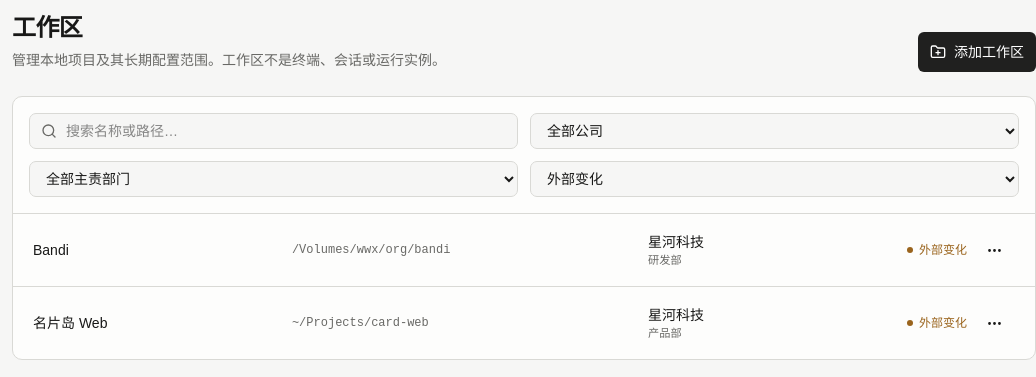
渐进式首次体验 › 工作区状态筛选使用稳定值并兼容旧 URL 标签
Check: the link "Bandi" is shown, box x1=33 y1=242 x2=69 y2=258
Check: the link "独立研究" is not shown
Step 1. Select "配置完整" in the dropdown named "状态" → (774, 179), box x1=530 y1=161 x2=1019 y2=197
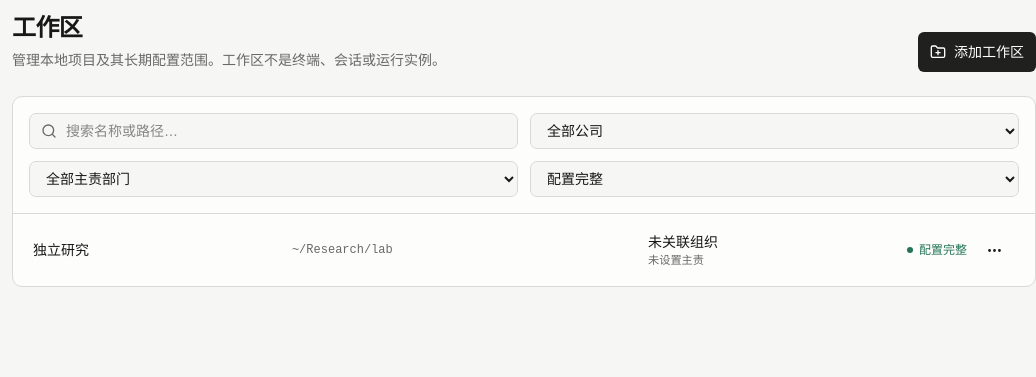
Check: the link "独立研究" is shown, box x1=33 y1=242 x2=89 y2=258
